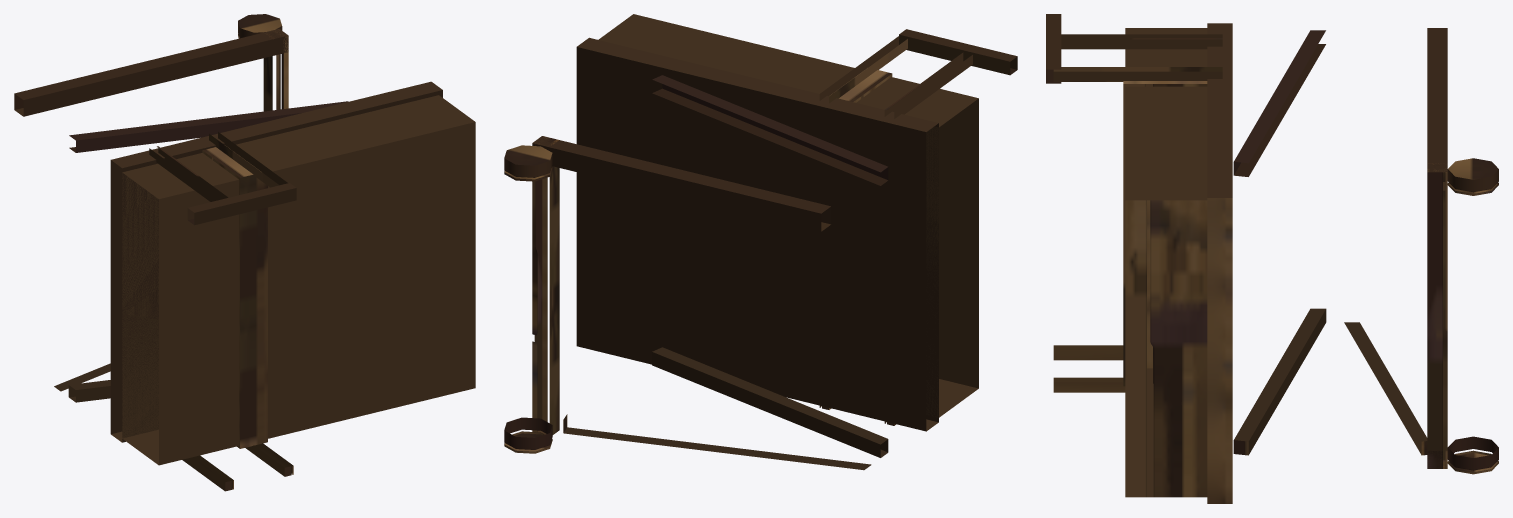
The model's file is section-3.obj.
3 views of the same model, side by side, from view 1: azimuth 30°, elevation 25°; view 2: azimuth 150°, elevation 25°; view 3: azimuth 270°, elevation 25° (orthographic). The views are drawn at different scales.
Bounding box in the file's own units: 0.807 × 0.7 × 0.885.
